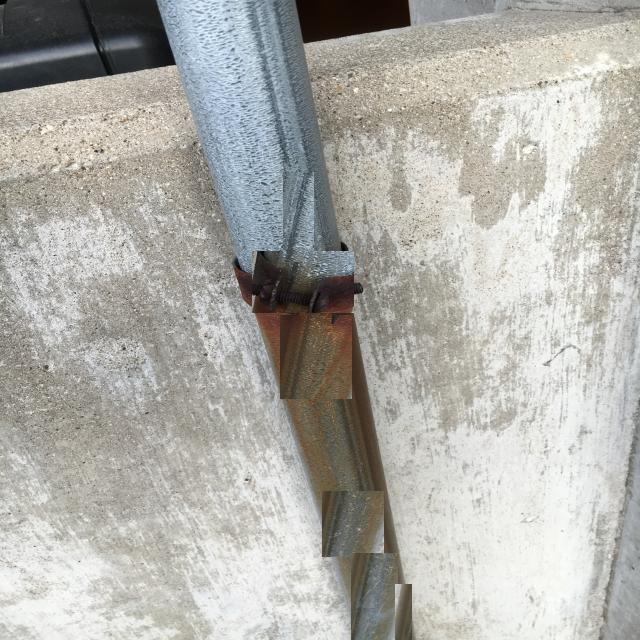Corrosion: (235, 251, 398, 556), (352, 556, 398, 640)
